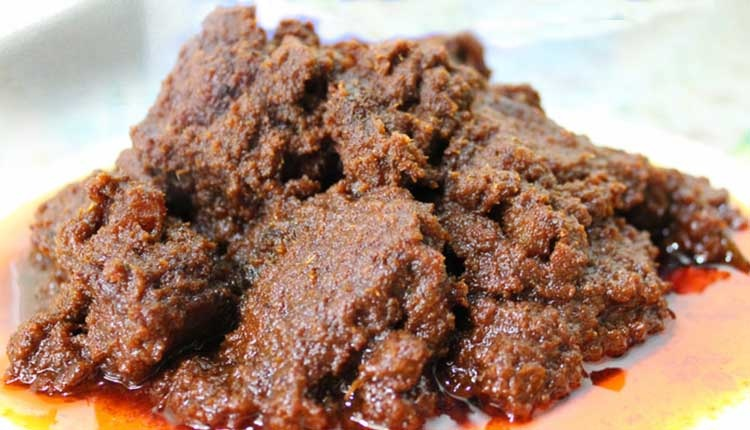rendang: (33, 12, 728, 398)
